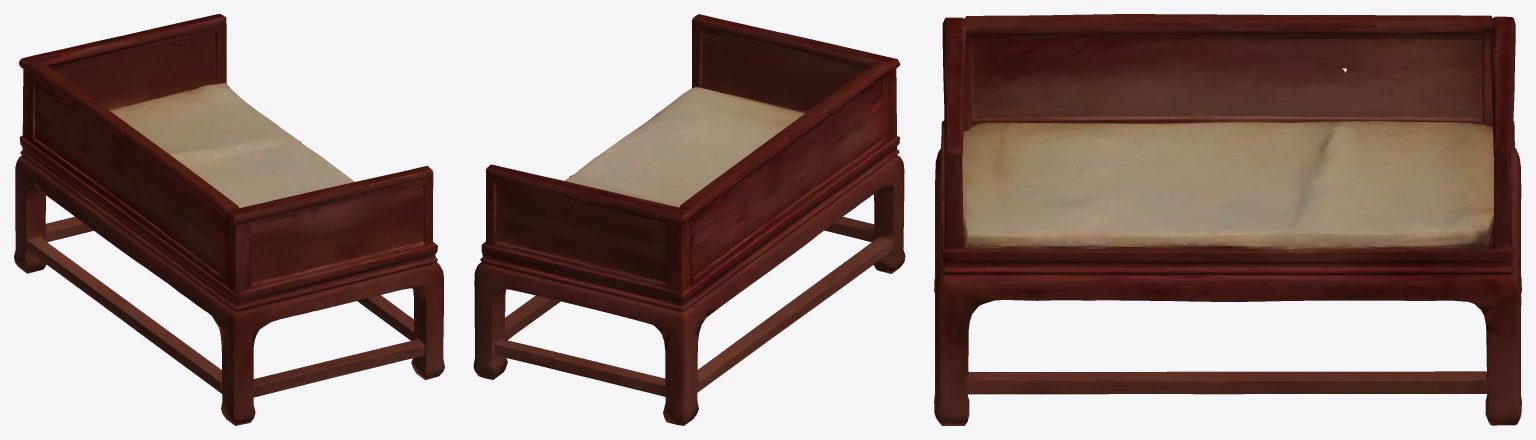
3 renders of one model, left to right at view 1: azimuth 30°, elevation 25°; view 2: azimuth 150°, elevation 25°; view 3: azimuth 270°, elevation 25°, orthographic. The views are drawn at different scales.
Parts seen in each view (by area): view 1: tripo_node_d84f8a7a-a346-4065-b223-189fd5b97ffd; view 2: tripo_node_d84f8a7a-a346-4065-b223-189fd5b97ffd; view 3: tripo_node_d84f8a7a-a346-4065-b223-189fd5b97ffd.
Part boxes in pixels (<box>): tripo_node_d84f8a7a-a346-4065-b223-189fd5b97ffd: <box>14,14,444,425</box>; tripo_node_d84f8a7a-a346-4065-b223-189fd5b97ffd: <box>473,14,905,425</box>; tripo_node_d84f8a7a-a346-4065-b223-189fd5b97ffd: <box>934,14,1521,425</box>.
Bounding box in the file's own units: 1.05 × 1 × 1.89.
1 material, 1 textured.
